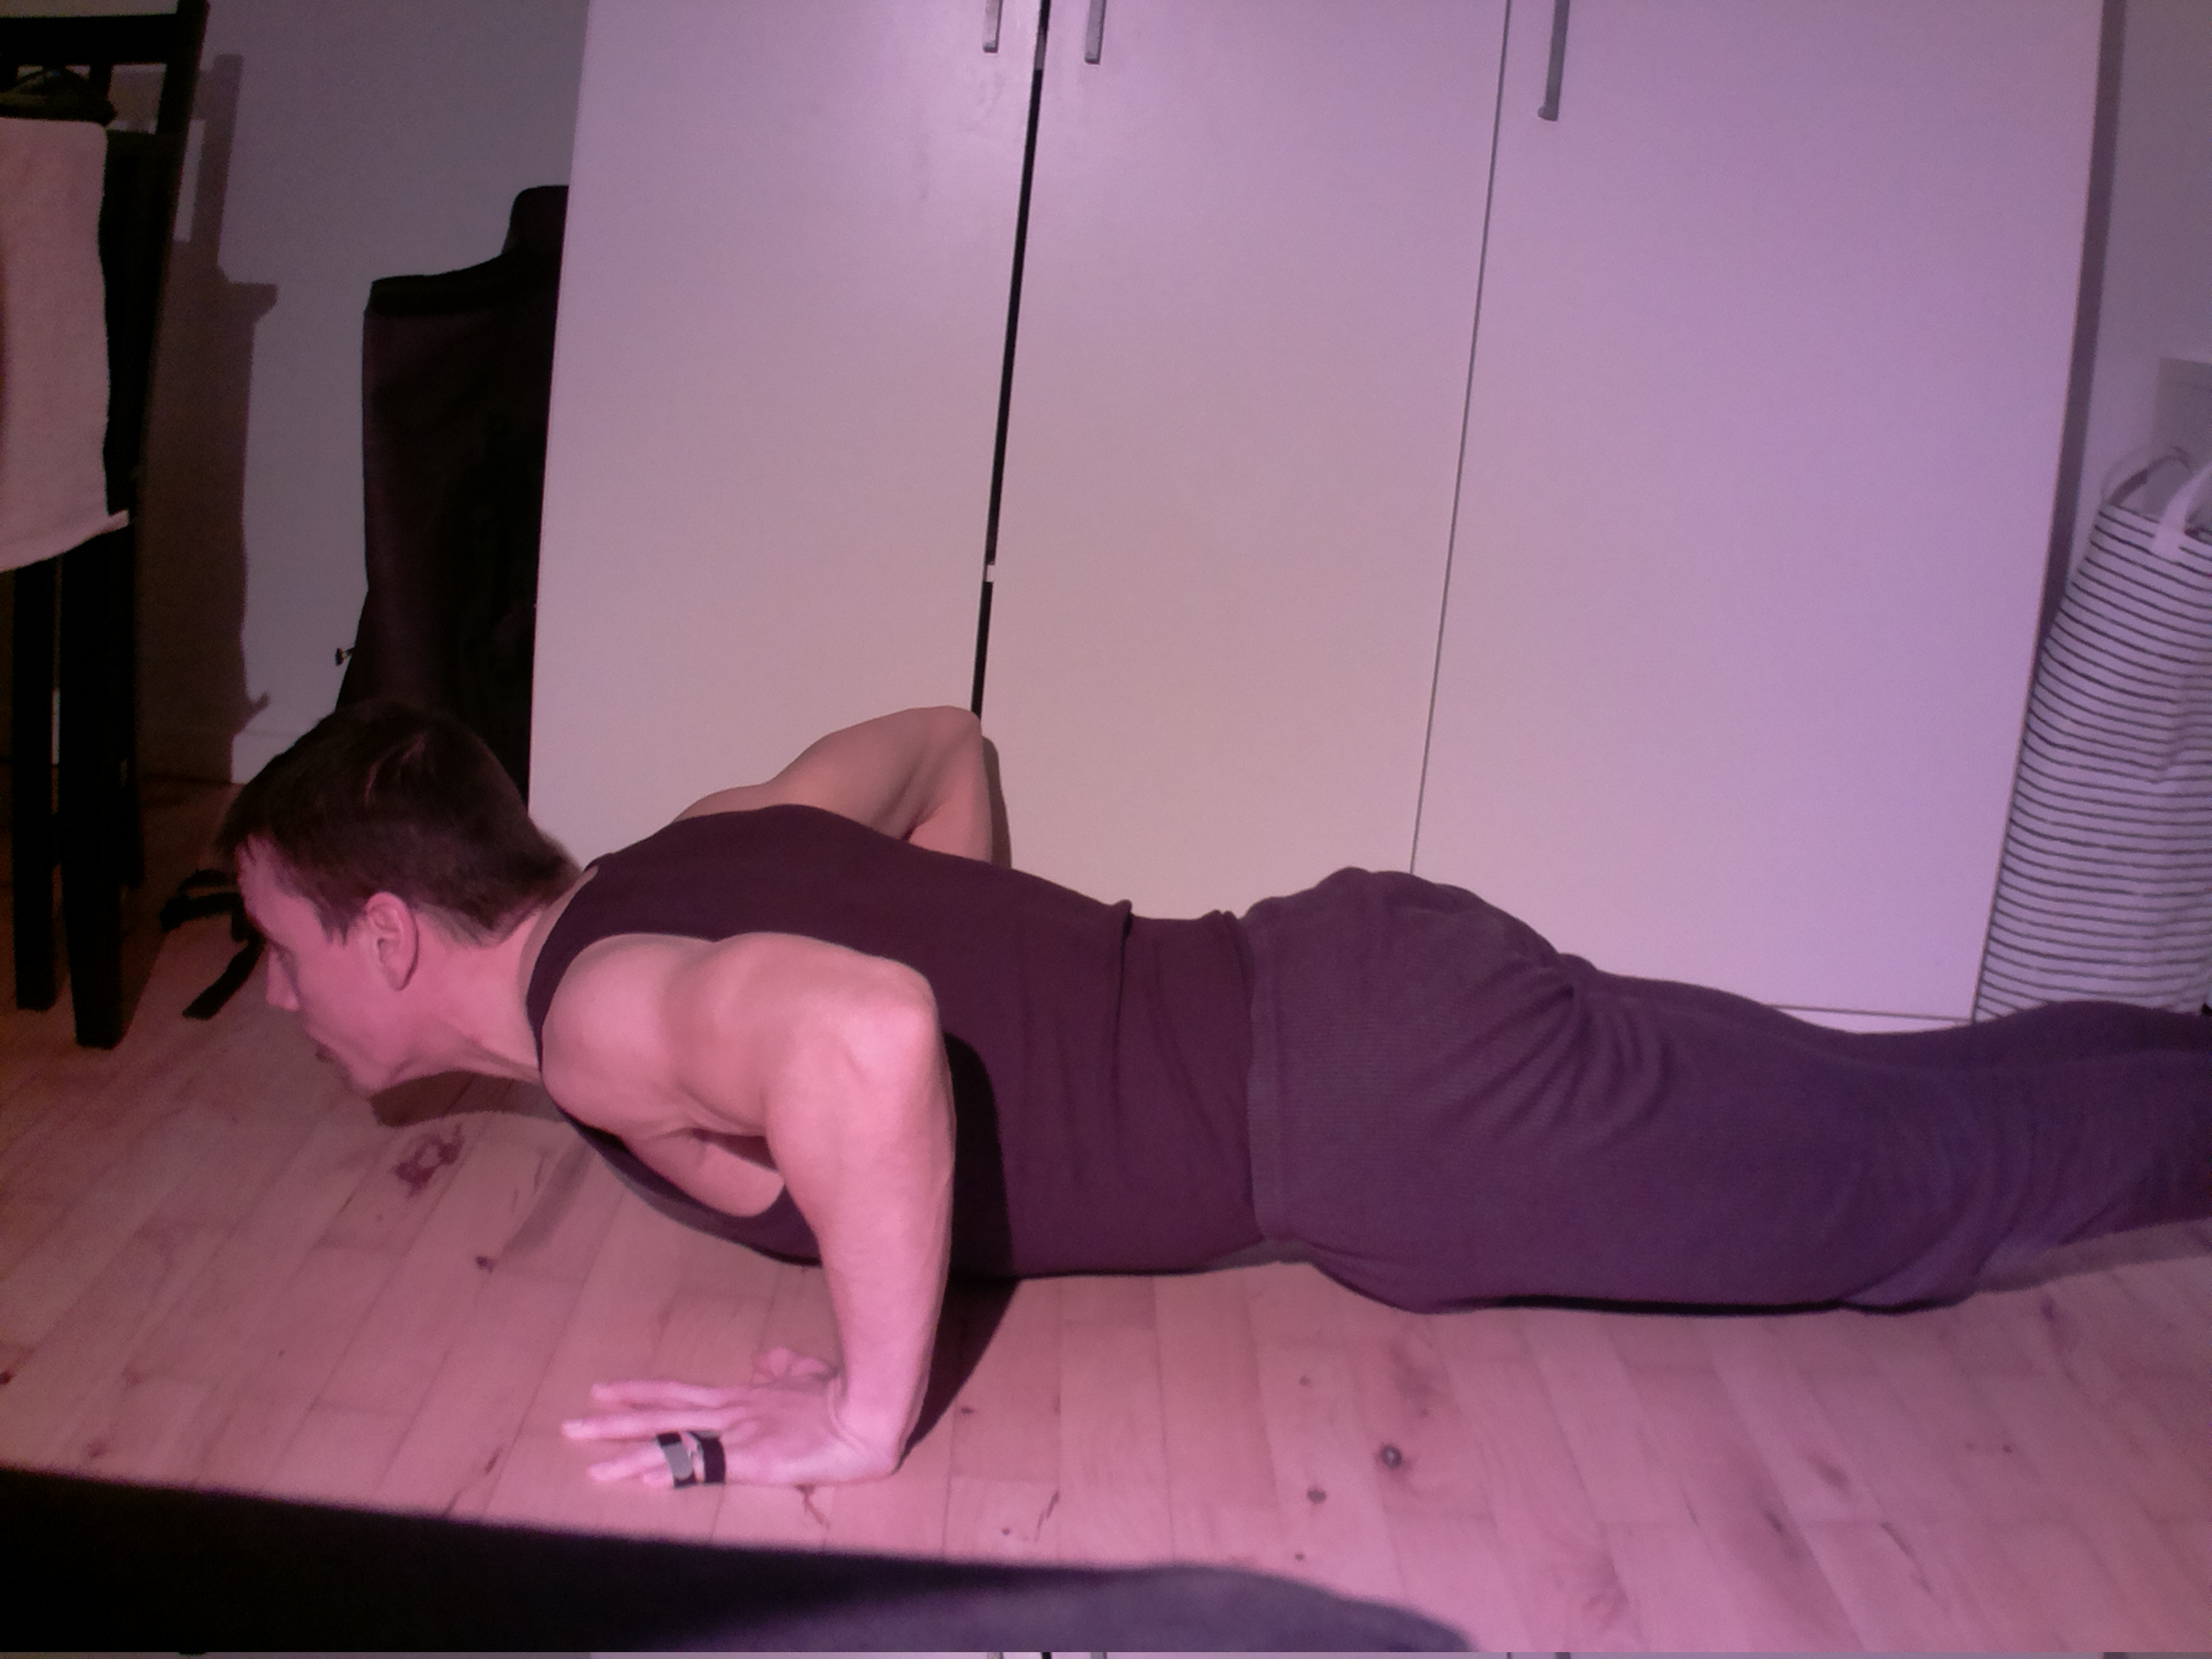CONAN: (186, 681, 1496, 1574)
